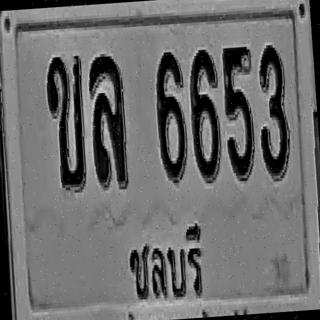A02: (44, 51, 89, 190)
A36: (86, 51, 129, 187)
N03: (254, 40, 291, 178)
N05: (220, 42, 259, 180)
N06: (187, 45, 223, 180), (153, 47, 189, 182)
P13: (114, 220, 209, 313)
